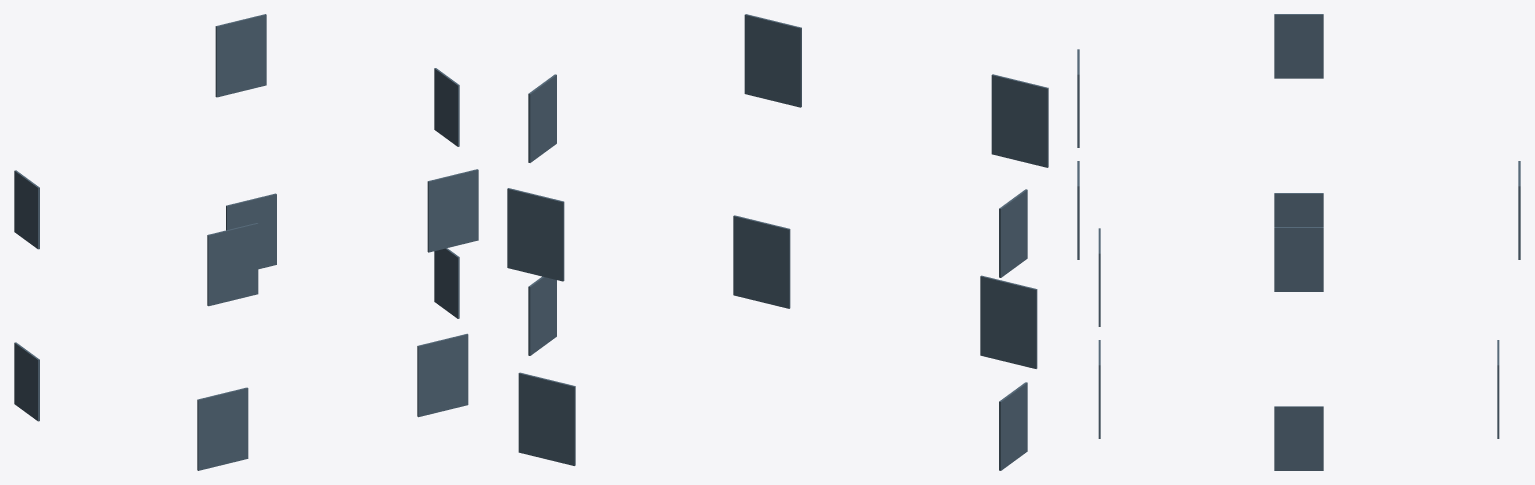
File: House_Timber2B_Glass.fbx
3 renders of one model, left to right at view 1: azimuth 30°, elevation 25°; view 2: azimuth 150°, elevation 25°; view 3: azimuth 270°, elevation 25°, orthographic. The views are drawn at different scales.
Parts seen in each view (by area): view 1: House_Timber2B_Glass; view 2: House_Timber2B_Glass; view 3: House_Timber2B_Glass.
Part boxes in pixels (left/top/right/bottom): House_Timber2B_Glass: left=14, top=14, right=478, bottom=470; House_Timber2B_Glass: left=507, top=14, right=1048, bottom=470; House_Timber2B_Glass: left=1077, top=14, right=1520, bottom=470.
Bounding box in the file's own units: 7.18 × 6.28 × 3.95.
